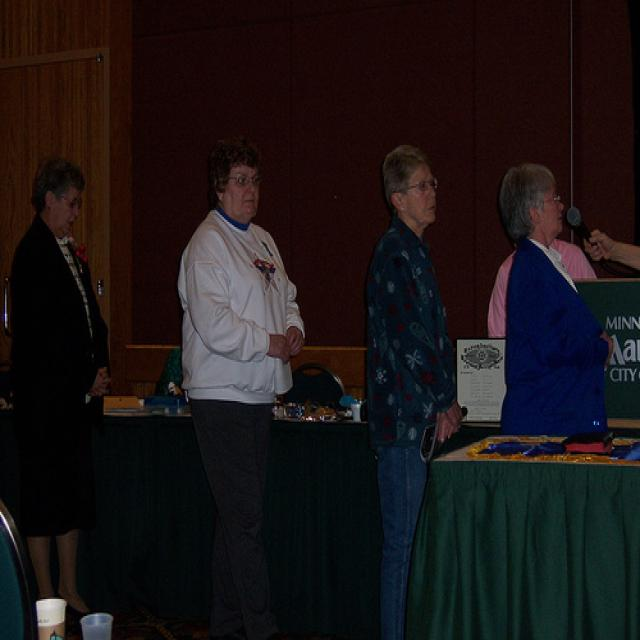Cup: (22, 589, 75, 640)
People: (184, 125, 302, 637), (6, 162, 113, 586), (370, 141, 444, 575), (495, 161, 608, 438)
